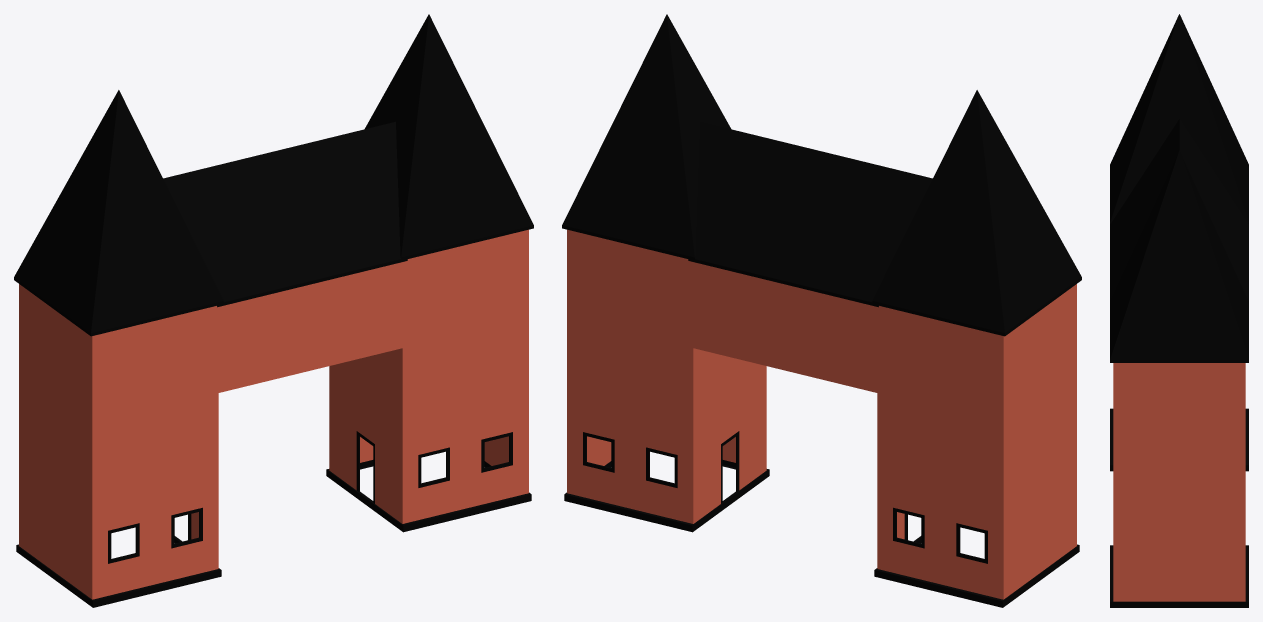
Rendered from ArenaBuilding #1.fbx.
The picture shows the model from 3 angles, left to right: view 1: azimuth 30°, elevation 25°; view 2: azimuth 150°, elevation 25°; view 3: azimuth 270°, elevation 25°; orthographic projection. The views are drawn at different scales.
Visible parts, largest first — view 1: building_001; view 2: building_001; view 3: building_001.
Boxes of the visible parts, left/top/right/bottom form: building_001: left=14, top=14, right=533, bottom=607; building_001: left=562, top=14, right=1081, bottom=607; building_001: left=1110, top=14, right=1248, bottom=607.
Size of the model in its own units: 1397 by 1430 by 420.
